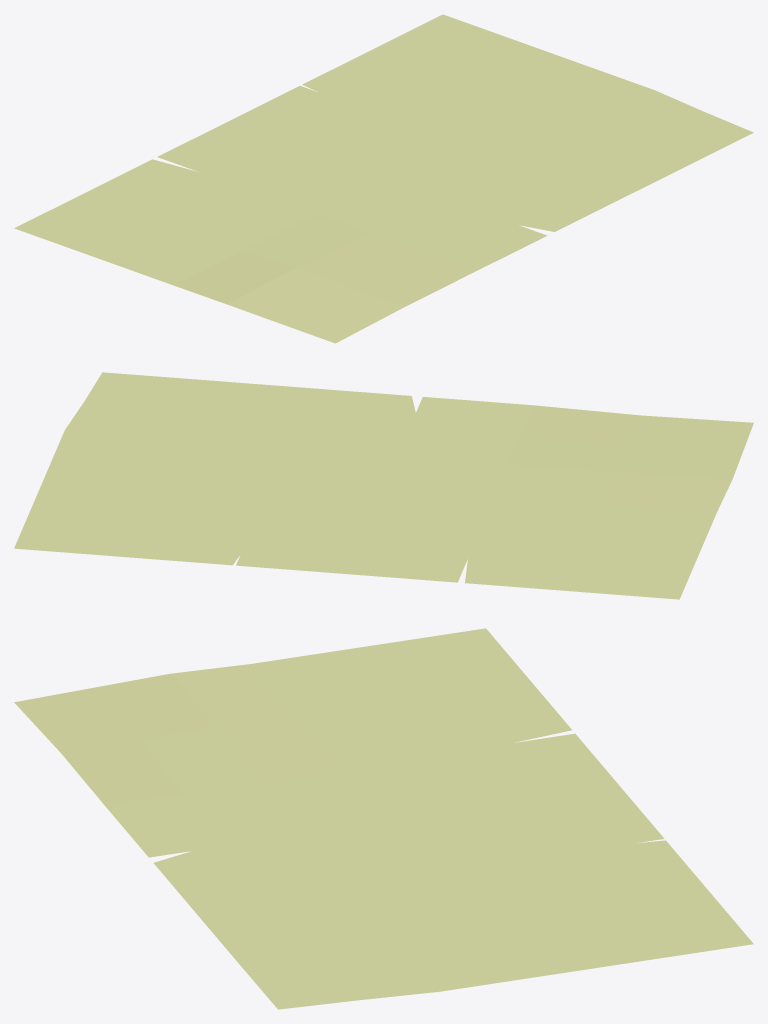
Rendered from paper_sheet_002.fbx.
3 renders of one model, top to bottom at view 1: azimuth 30°, elevation 25°; view 2: azimuth 150°, elevation 25°; view 3: azimuth 270°, elevation 25°, orthographic. The views are drawn at different scales.
Parts seen in each view (by area): view 1: paper_sheet.002; view 2: paper_sheet.002; view 3: paper_sheet.002.
Boxes of the visible parts, <box> form: paper_sheet.002: <box>14,14,753,343</box>; paper_sheet.002: <box>14,372,753,599</box>; paper_sheet.002: <box>14,628,753,1009</box>.
Bounding box in the file's own units: 55.48 × 0.1945 × 45.5.
